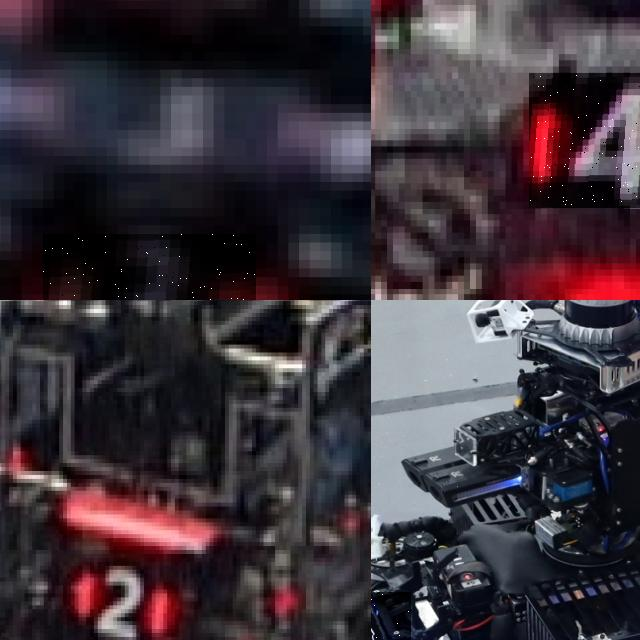Bs: (371, 591, 410, 640)
R2: (67, 562, 171, 640)
R3: (42, 234, 256, 300)
R4: (529, 72, 640, 208)
